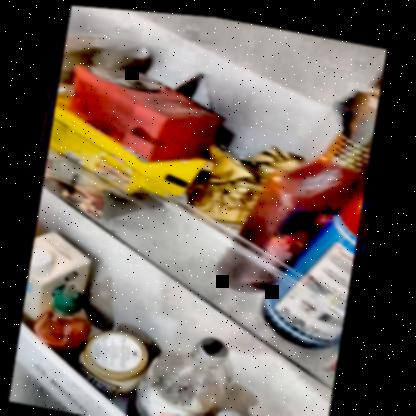butter: (45, 70, 190, 226)
milk: (26, 231, 83, 323)
